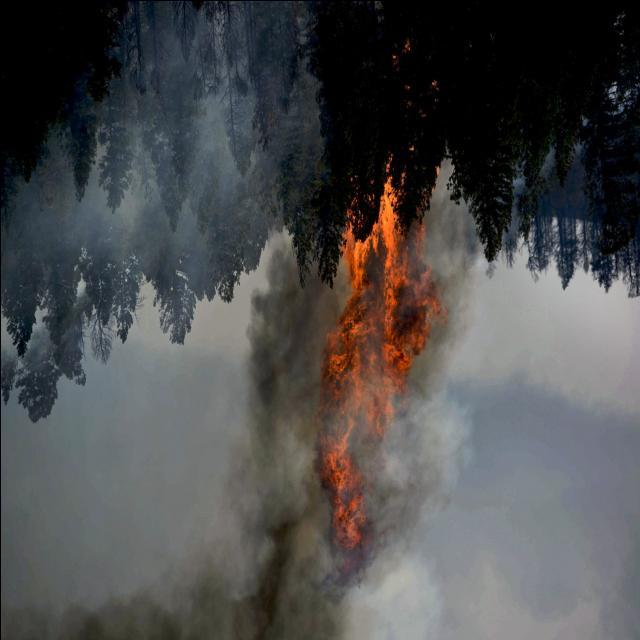Fire: (321, 180, 441, 550)
